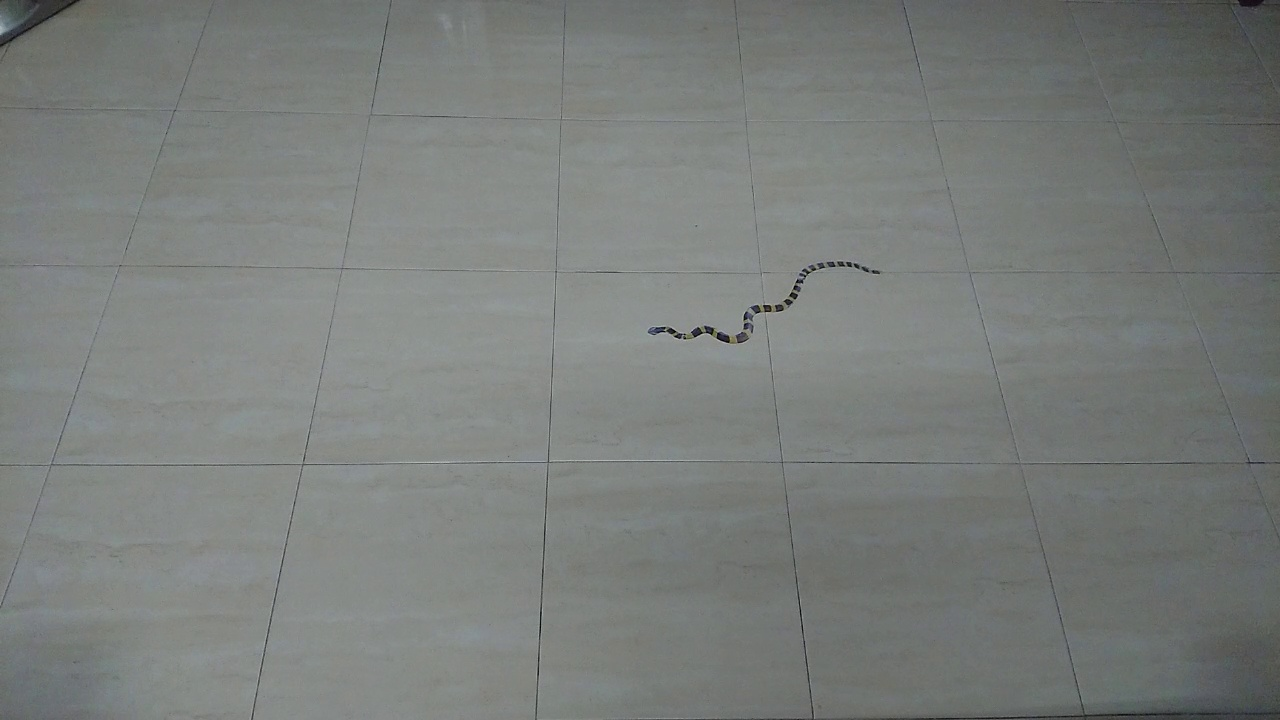snake: (633, 249, 895, 358)
